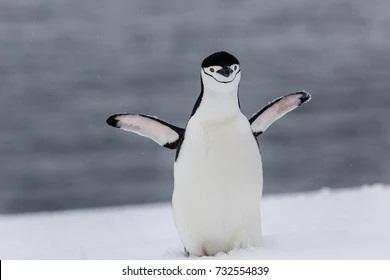chinstrap: (101, 55, 321, 273)
